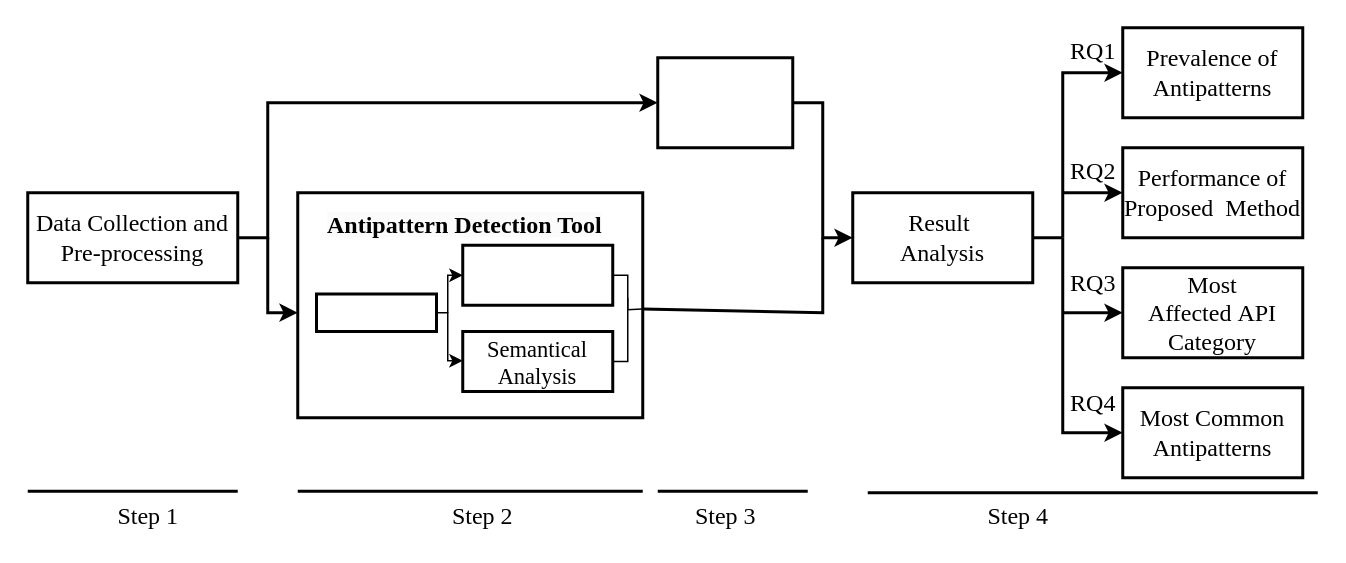
Some shapes in this 1346 by 563 pixel diagram are drawn without their labels. The shapes that lost their labels are listed below. From the top down, each one's centre as x and y in pixels, then its label:
At pixel 725 102: "Manual Validation".
At pixel 537 274: "Syntactical Analysis".
At pixel 375 312: "Heuristics".
